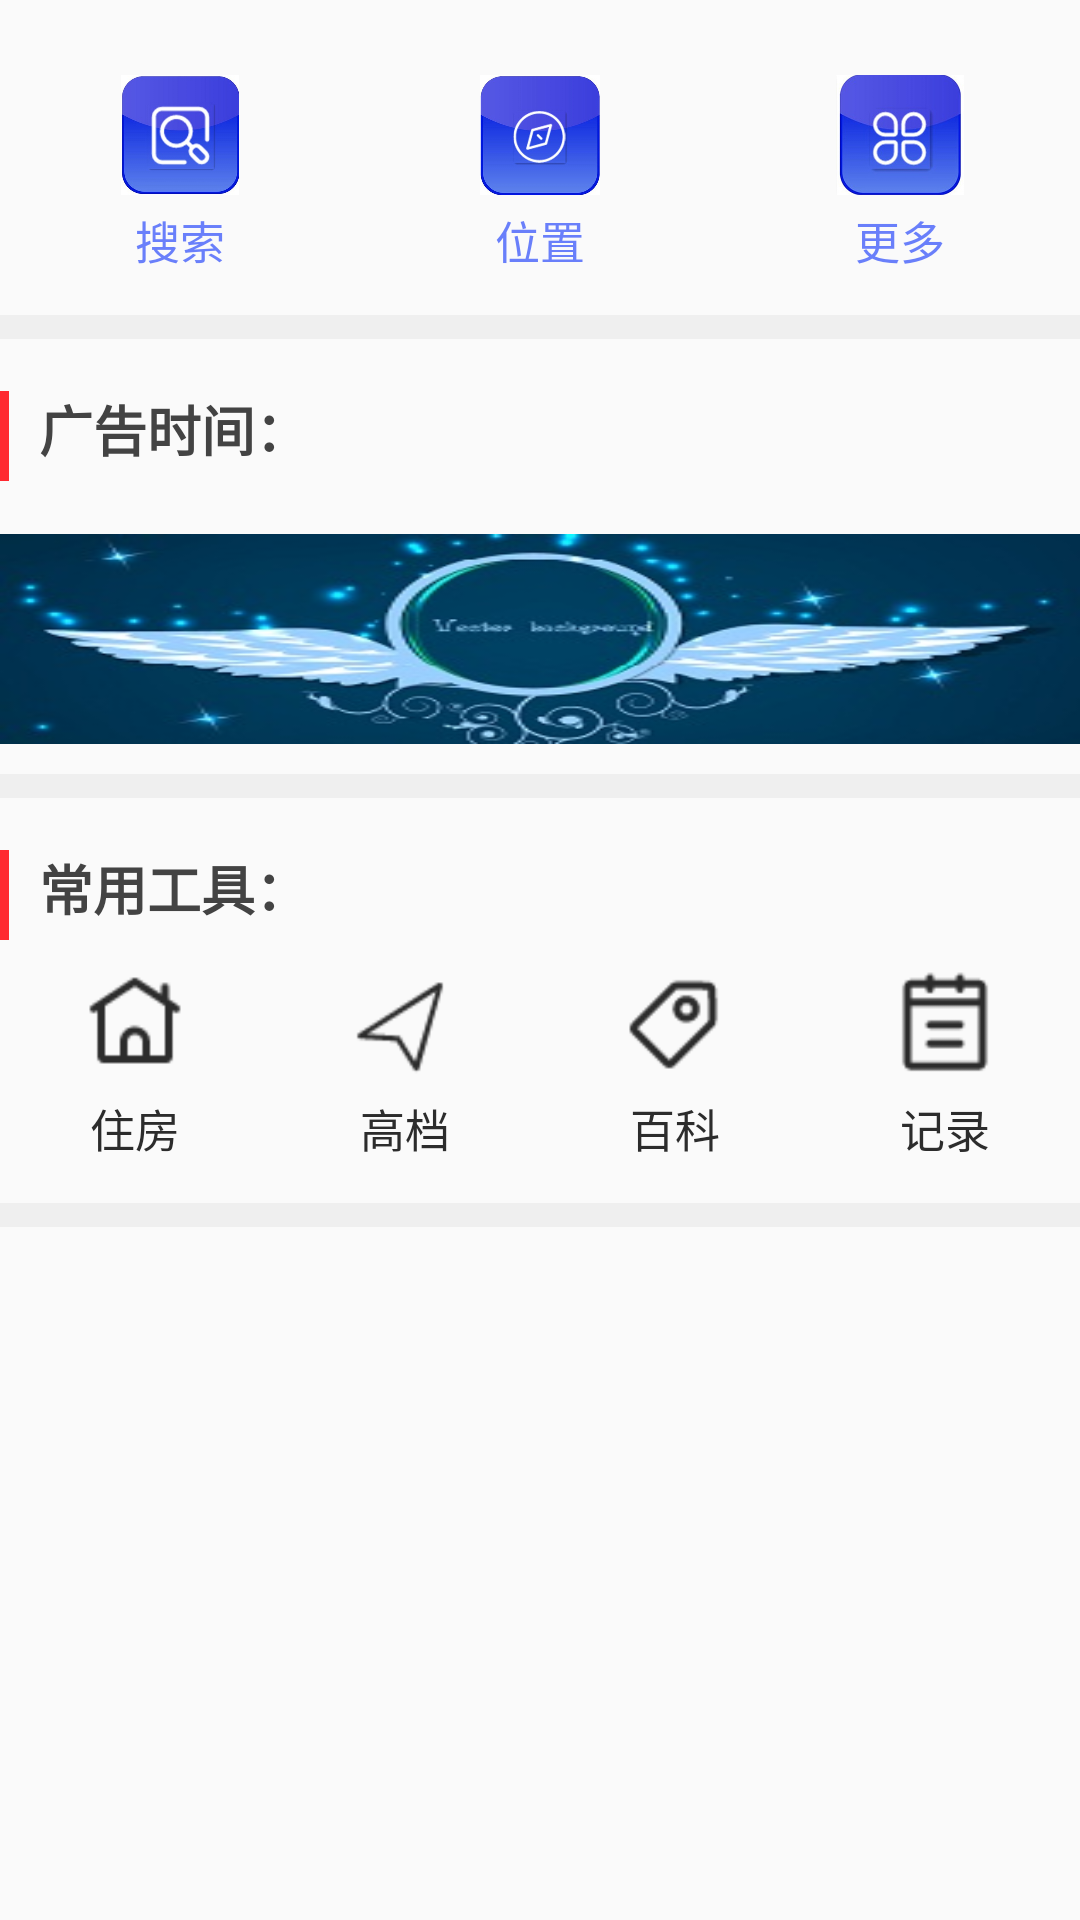

Icon bounding boxes for this 1080px×1920px phone screenshot, format (x1, y1, x2, y2):
tool fangzi: (89, 977, 181, 1064)
